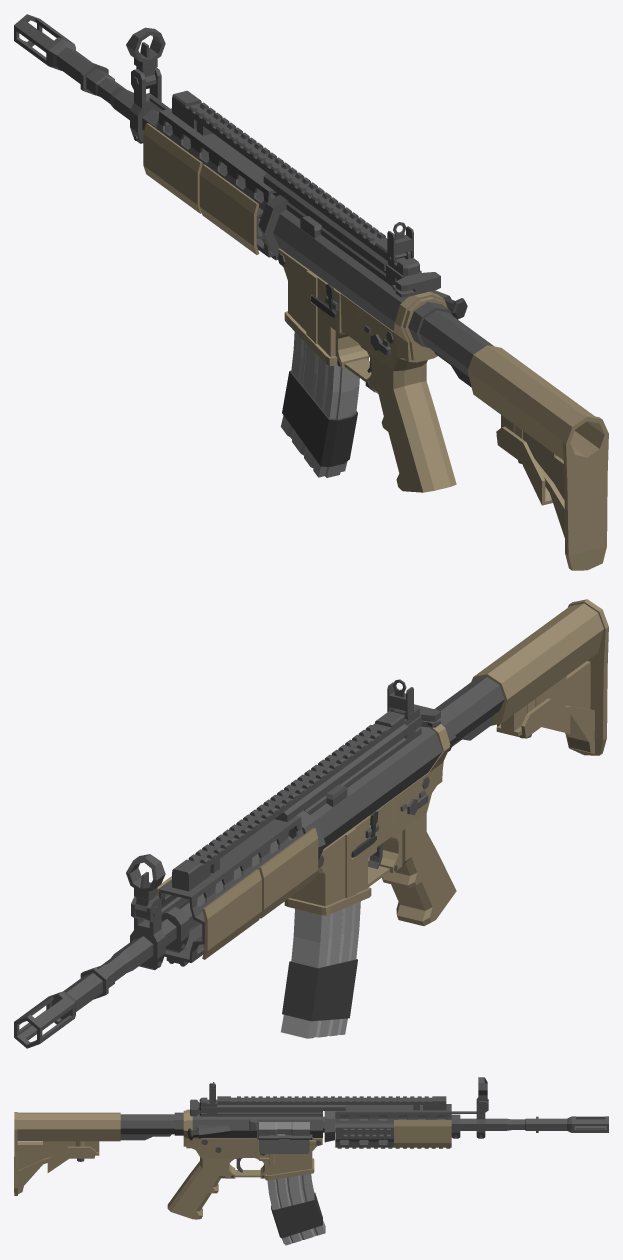
The picture shows the model from 3 angles, top to bottom: view 1: azimuth 30°, elevation 25°; view 2: azimuth 150°, elevation 25°; view 3: azimuth 270°, elevation 25°; orthographic projection. The views are drawn at different scales.
Parts seen in each view (by area): view 1: M4A1, Stock, Magazine, ChargingHandle; view 2: M4A1, Stock, Magazine; view 3: M4A1, Stock, Magazine, Bolt.
Boxes of the visible parts, x1,y1,x2,y2 form: M4A1: (14, 14, 494, 492); Stock: (467, 345, 608, 570); Magazine: (280, 332, 359, 477); ChargingHandle: (392, 272, 440, 297); M4A1: (14, 677, 504, 1048); Stock: (471, 599, 608, 755); Magazine: (281, 901, 360, 1038); M4A1: (120, 1077, 608, 1219); Stock: (14, 1112, 120, 1195); Magazine: (267, 1134, 325, 1245); Bolt: (259, 1122, 309, 1135).
Bounding box in the file's own units: 6.91 × 25.85 × 84.41.
